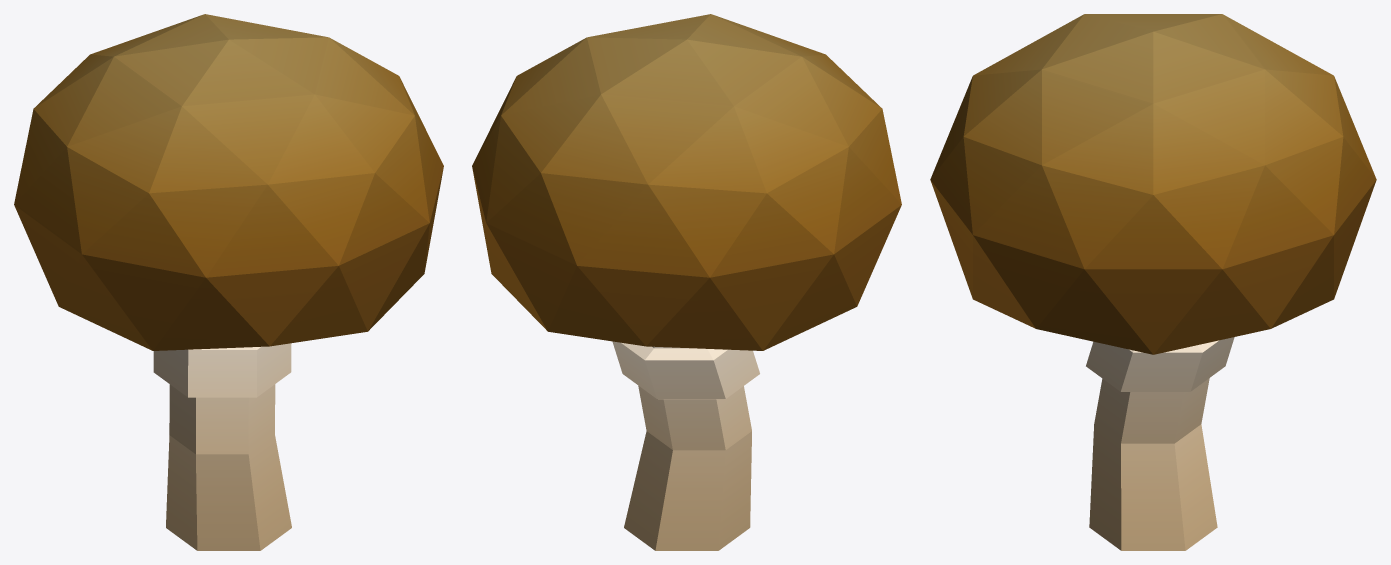
File: Mushroom_02.fbx
3 renders of one model, left to right at view 1: azimuth 30°, elevation 25°; view 2: azimuth 150°, elevation 25°; view 3: azimuth 270°, elevation 25°, orthographic.
Visible parts, largest first — view 1: Mushroom_02; view 2: Mushroom_02; view 3: Mushroom_02.
Boxes of the visible parts, left/top/right/bottom form: Mushroom_02: left=14, top=14, right=443, bottom=550; Mushroom_02: left=472, top=14, right=901, bottom=550; Mushroom_02: left=930, top=14, right=1376, bottom=550.
Size of the model in its own units: 0.3816 by 0.4917 by 0.4012.
